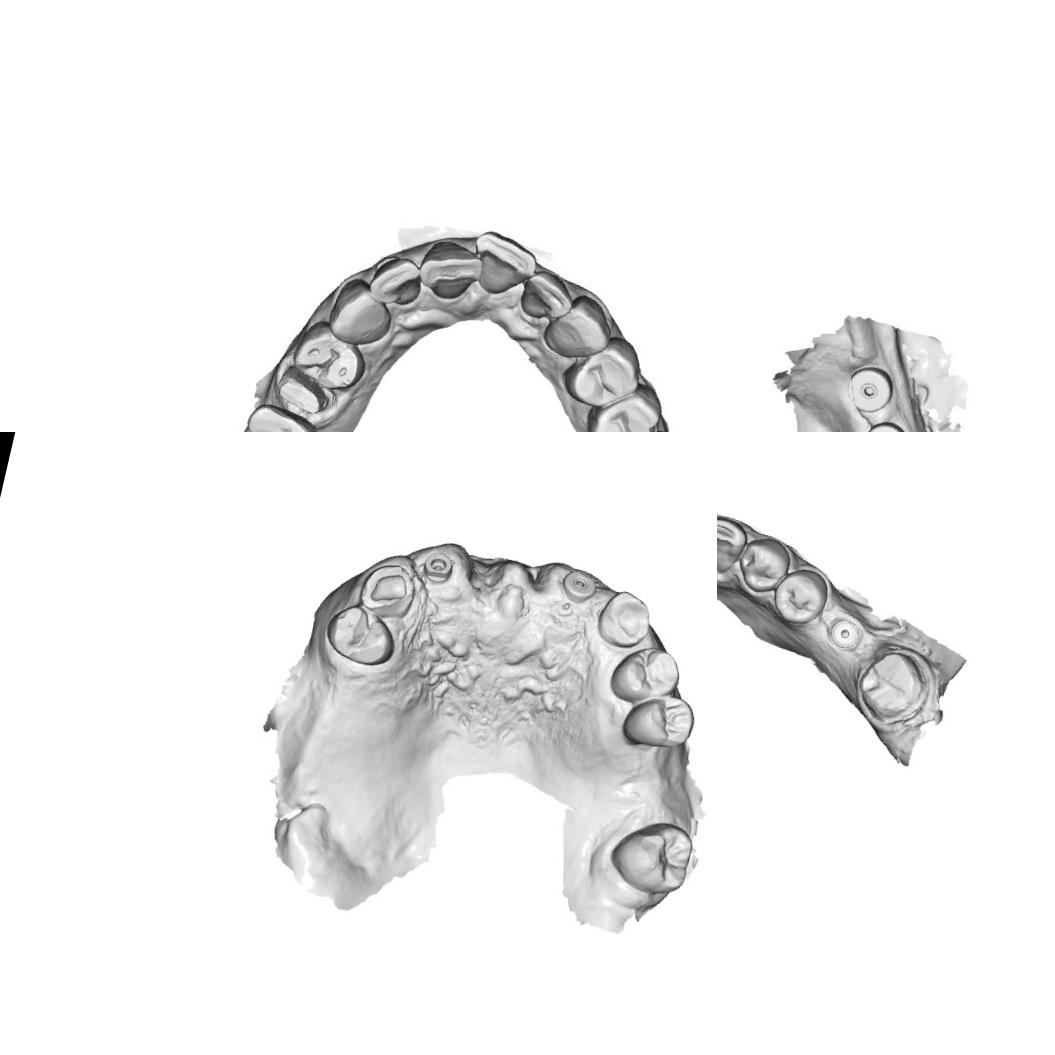canine: (323, 274, 398, 352), (542, 290, 617, 367), (590, 584, 661, 656), (352, 555, 424, 624), (717, 511, 751, 578)
crown: (848, 642, 936, 732), (268, 364, 338, 424)
implant: (840, 356, 900, 422), (418, 546, 462, 586), (560, 570, 599, 606), (826, 616, 863, 652), (855, 414, 911, 432)
incisor: (462, 225, 541, 304), (413, 236, 488, 305), (364, 250, 430, 314), (515, 266, 581, 328)
molar: (602, 810, 699, 902), (234, 398, 327, 432)
premolar: (284, 316, 374, 398), (562, 330, 645, 418), (318, 598, 404, 672), (616, 684, 701, 758), (604, 636, 686, 712), (583, 379, 671, 432), (768, 562, 834, 631), (733, 531, 796, 598)
